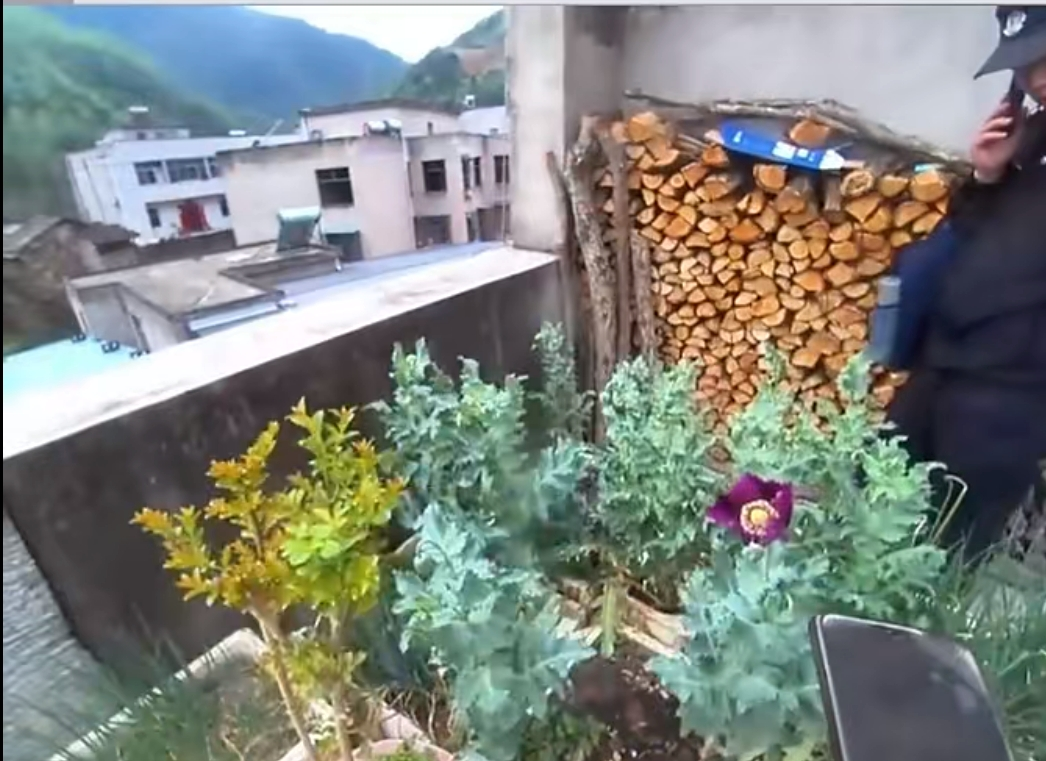Poppy: (598, 336, 933, 743), (379, 333, 595, 735)
